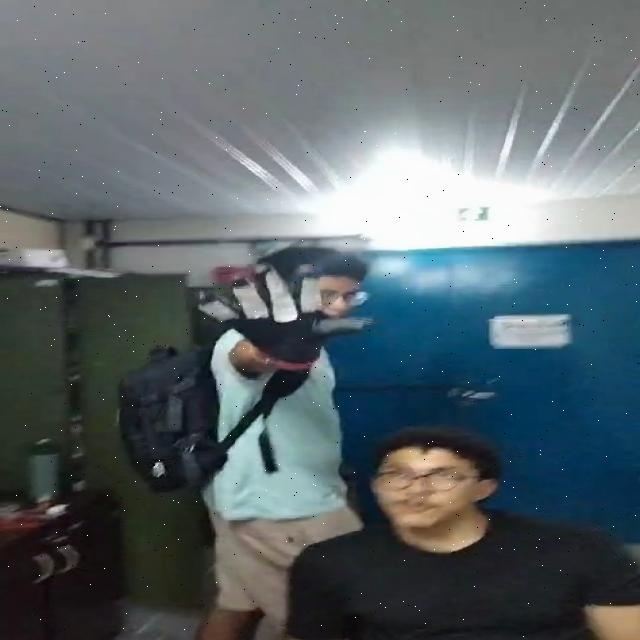Gloves: (190, 262, 372, 365)
